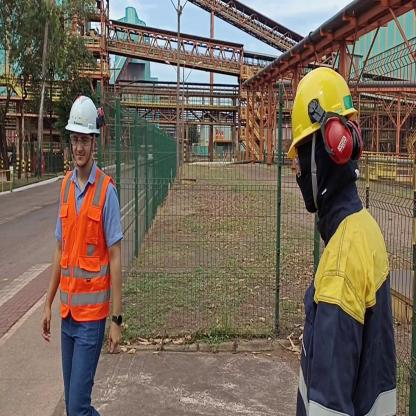Balaclava: (294, 139, 359, 223)
C_eletrica: (281, 224, 402, 416)
Capacete: (282, 66, 360, 140), (64, 92, 103, 135)
colete: (60, 174, 116, 320)
